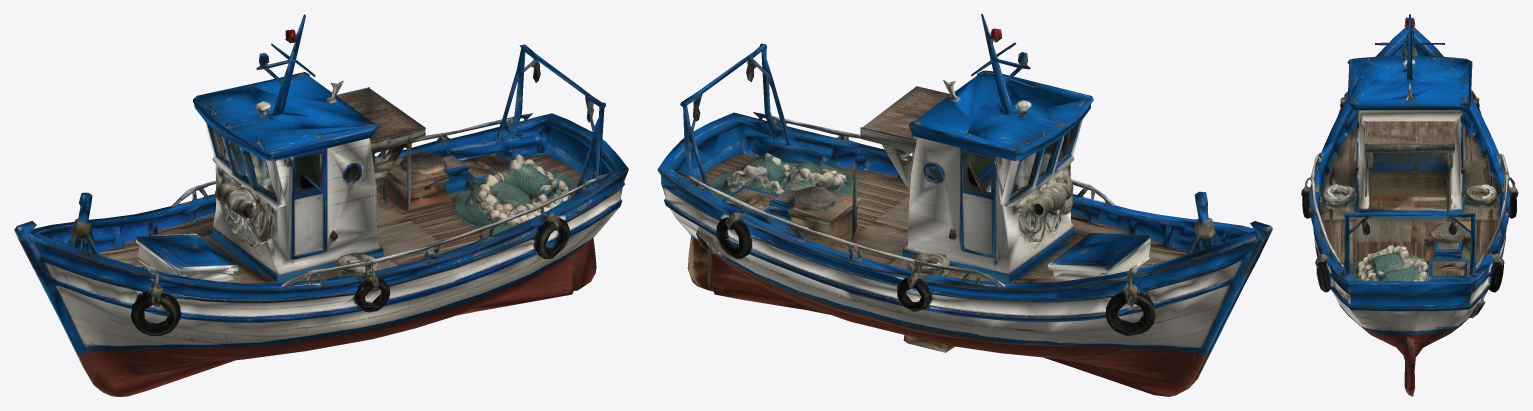
File: kit_trabzon_fishing_boat.glb
The picture shows the model from 3 angles, left to right: view 1: azimuth 30°, elevation 25°; view 2: azimuth 150°, elevation 25°; view 3: azimuth 270°, elevation 25°; orthographic projection. The views are drawn at different scales.
Visible parts, largest first — view 1: Mesh1.0; view 2: Mesh1.0; view 3: Mesh1.0.
Boxes of the visible parts, <box> form: Mesh1.0: <box>14,14,628,396</box>; Mesh1.0: <box>657,14,1272,396</box>; Mesh1.0: <box>1301,14,1518,396</box>.
Size of the model in its own units: 12.45 by 7 by 5.02.
1 material, 1 textured.
